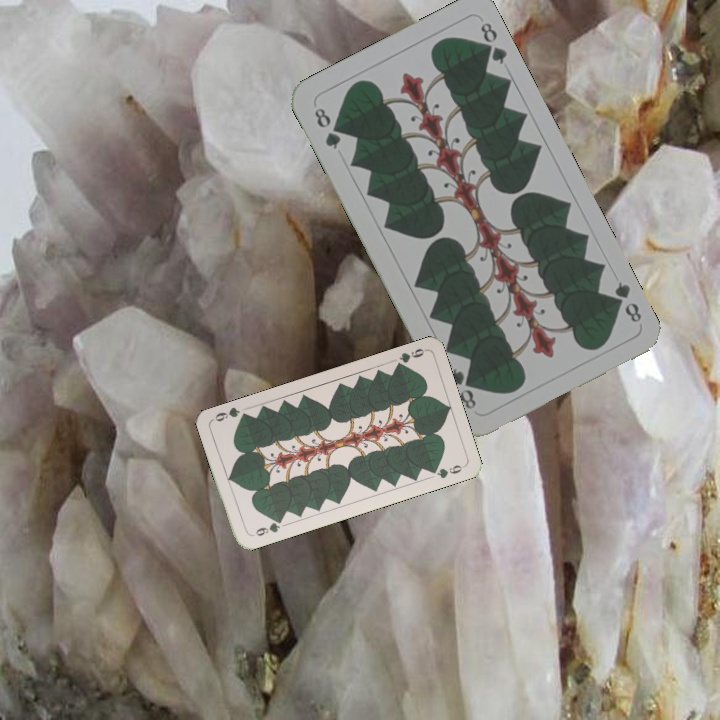G8: (606, 277, 645, 325), (310, 104, 344, 152)
G9: (391, 344, 428, 371), (247, 515, 285, 539)
